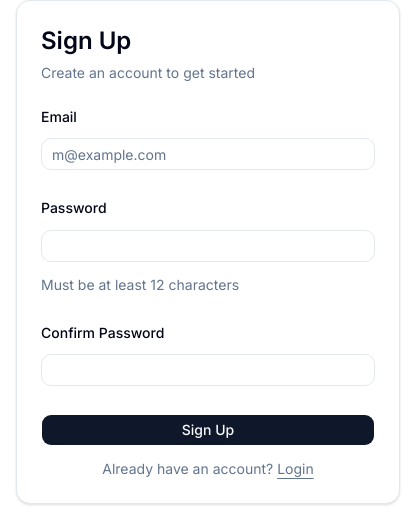
Scenario: SignupForm Component › shows HTML validation loading state during submission
Type "test@example.com" into the field with placeholder "m@example.com".
click(208, 154); type("test@example.com")  # box [41,138,375,170]
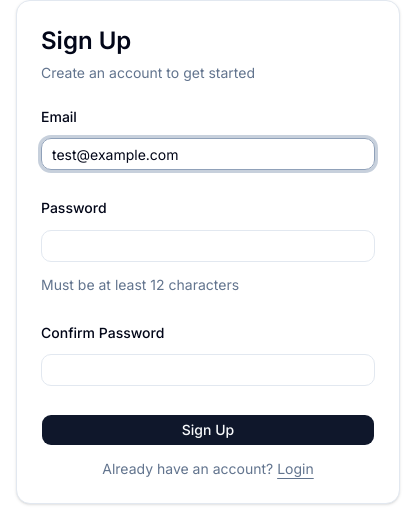
Type "password1234" into the password field labelled "Password".
click(208, 246); type("password1234")  # box [41,230,375,262]
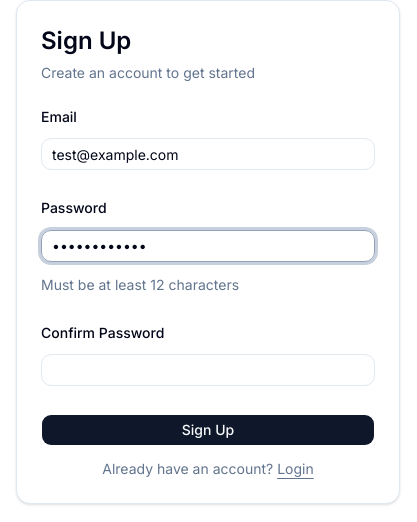
Type "password1234" into the password field labelled "Confirm Password".
click(208, 370); type("password1234")  # box [41,354,375,386]
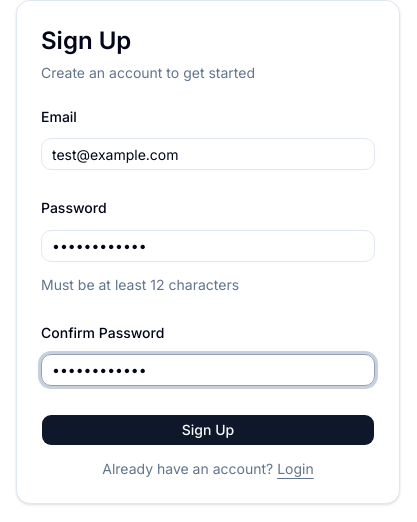
Click the button "Sign Up".
click(208, 430)  # box [41,414,375,446]
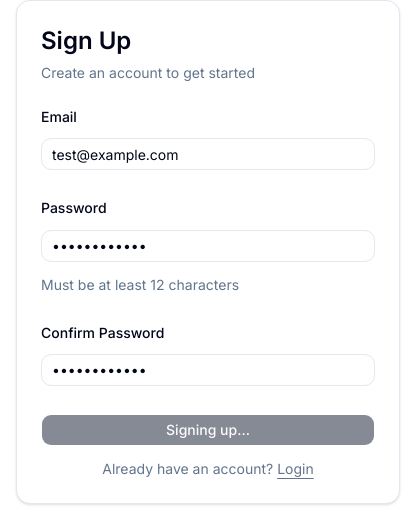
Expected: the button named "Sign Up" reads "Signing up...", [41,414,375,446]
Expected: the button named "Sign Up" is disabled, [41,414,375,446]
